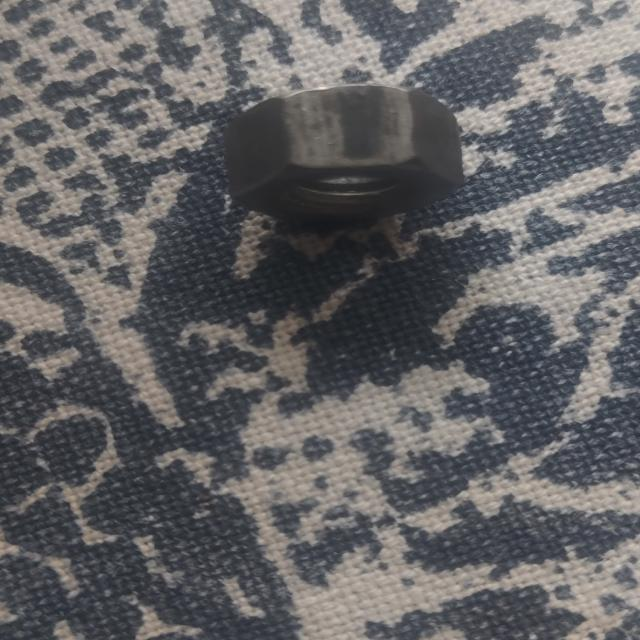disinfected nut: (227, 85, 463, 225)
